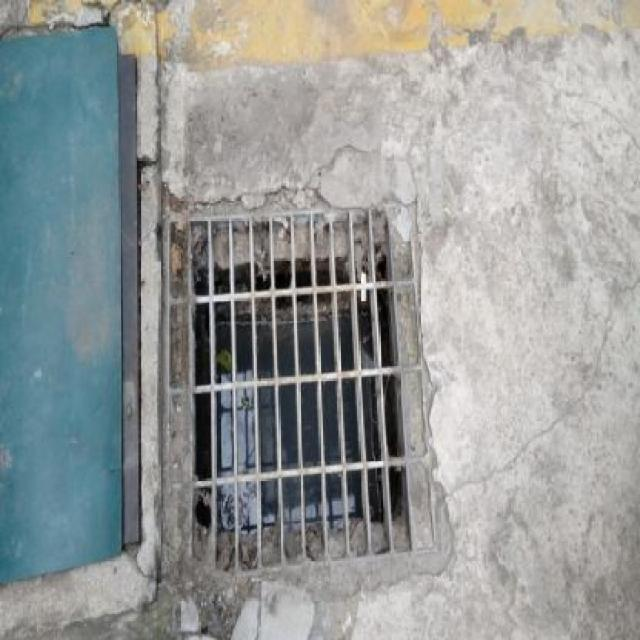Drain Hole: (179, 160, 463, 591)
